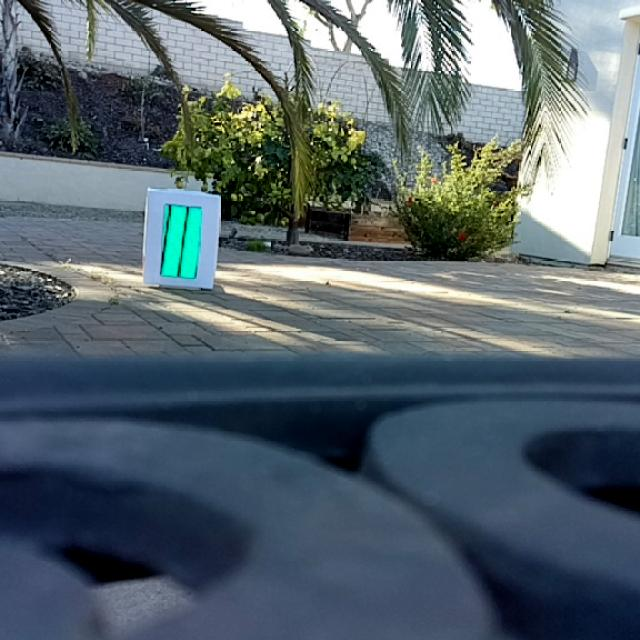led: (158, 201, 204, 281)
